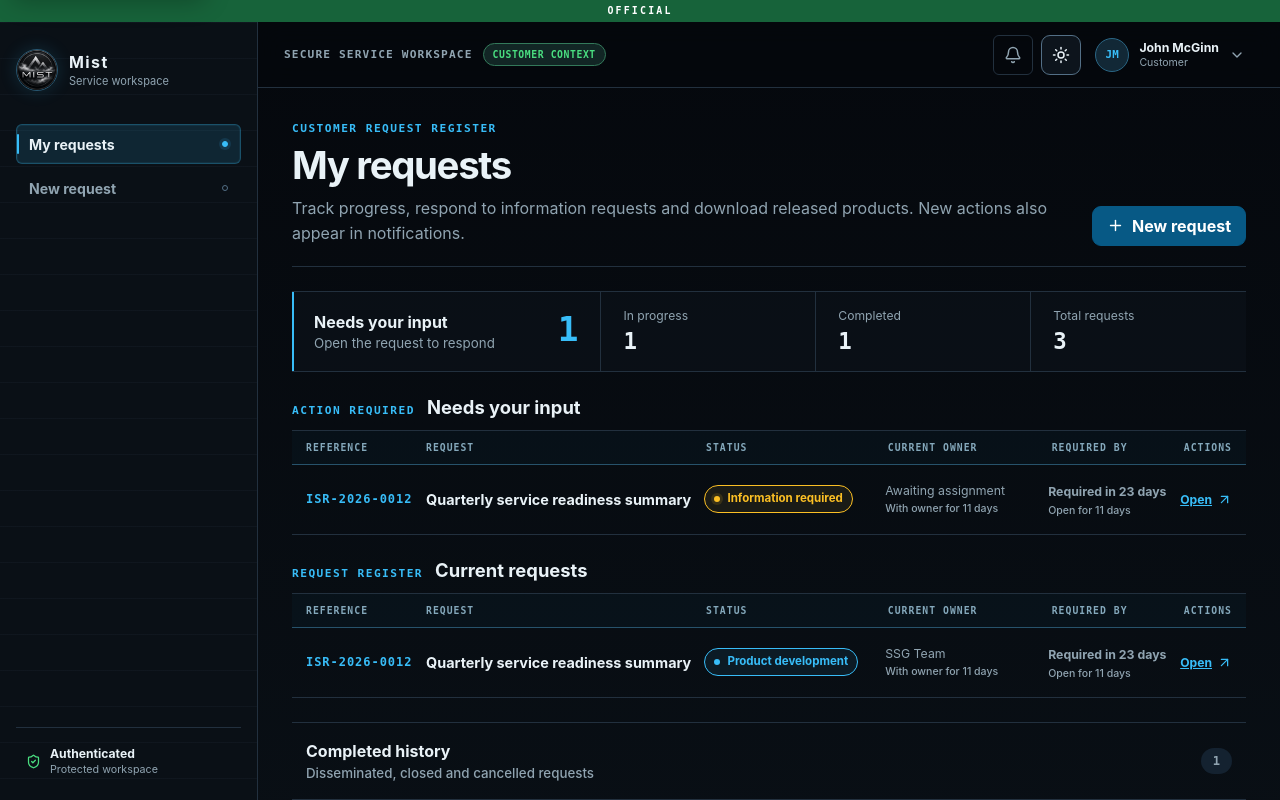
requester experience › shows current requests, action-needed work and completed history
Expected: the heading "My requests" is shown, [292, 142, 511, 188]
Expected: the text "Needs your input" shows "1", [558, 309, 578, 349]
What coordinates should you click on to do the following:
click the text "Completed history"
I would click on:
 (378, 751)
Its box is [306, 741, 450, 761].
(page scrolled)
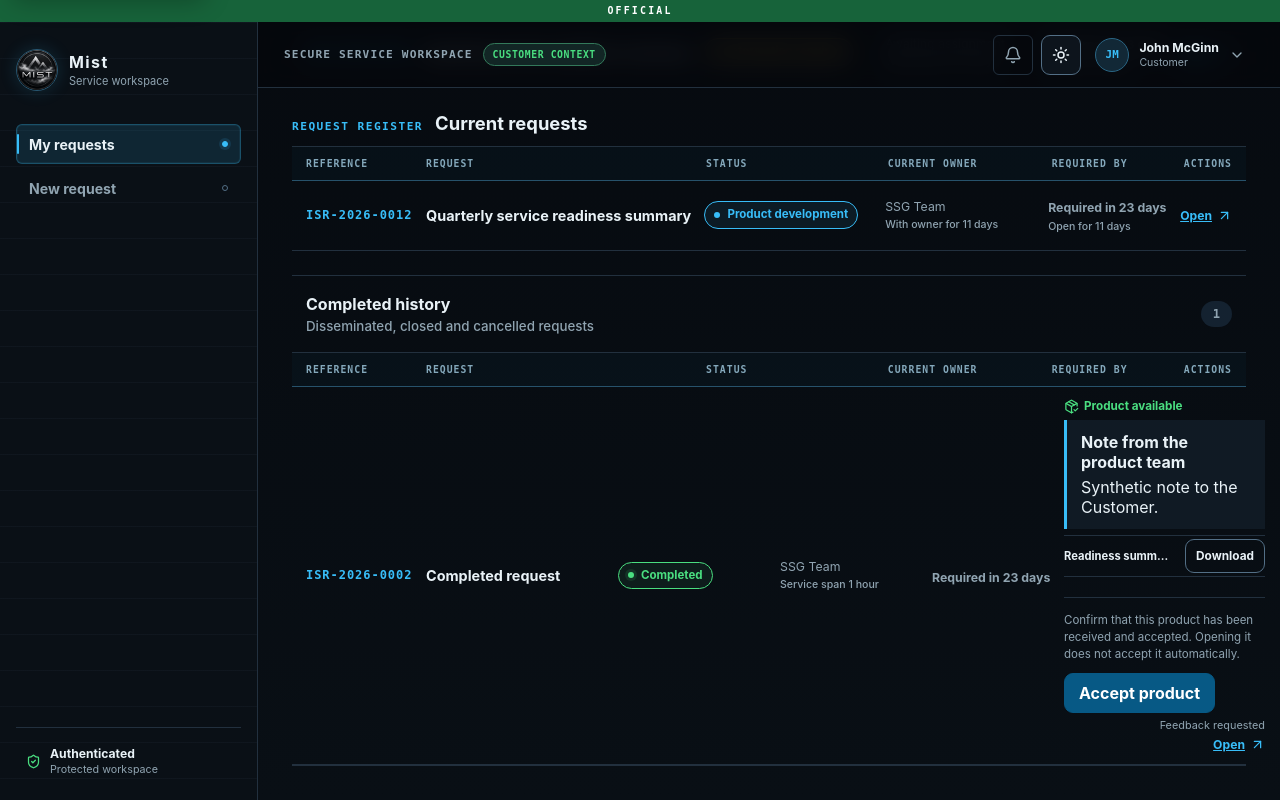
Expected: the link "Completed request" is shown, [426, 567, 560, 584]
Expected: the text "Feedback requested" is shown, [1160, 718, 1265, 732]
